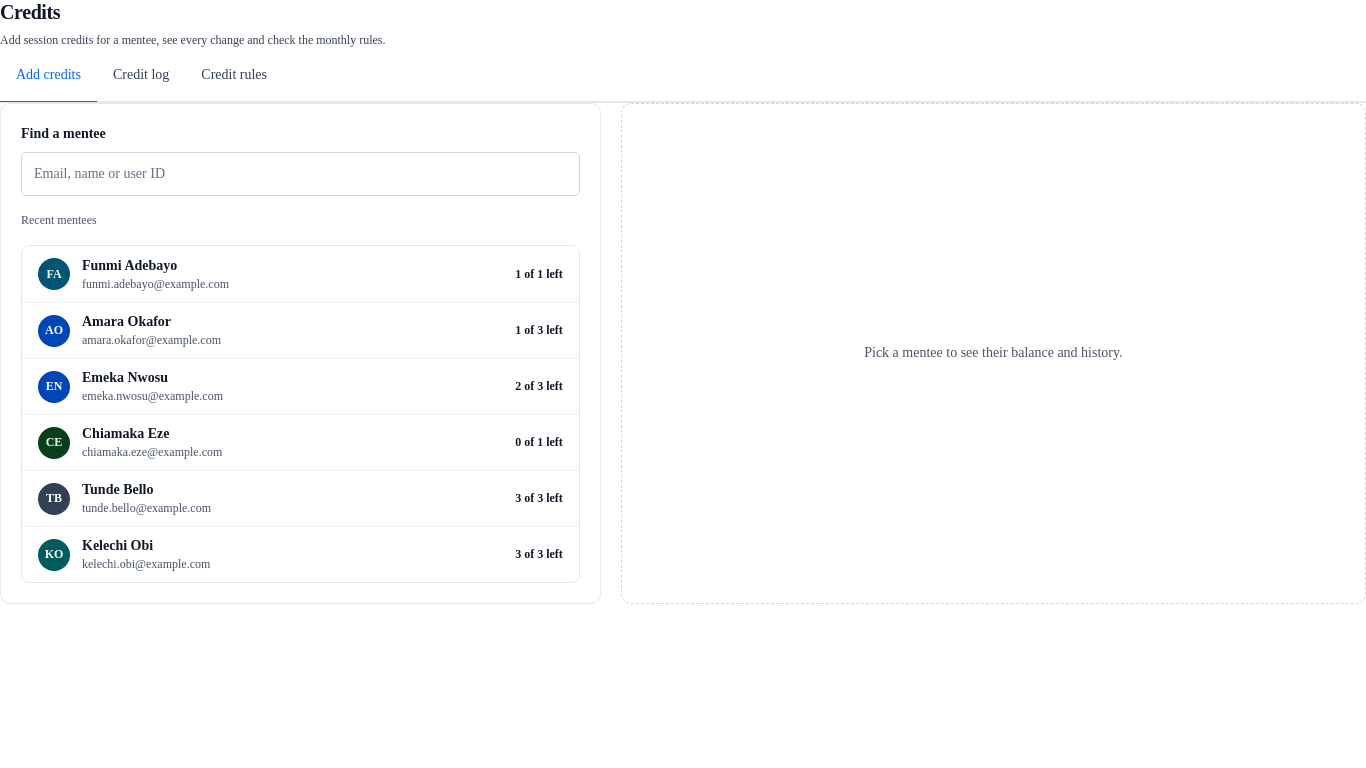
Test: AdminCreditsScreen › a failed add closes the confirm, changes nothing and says so
Type "amara" into the search field labelled "Find a mentee" at (300, 174), box top-left (21, 152), bottom-right (580, 196)
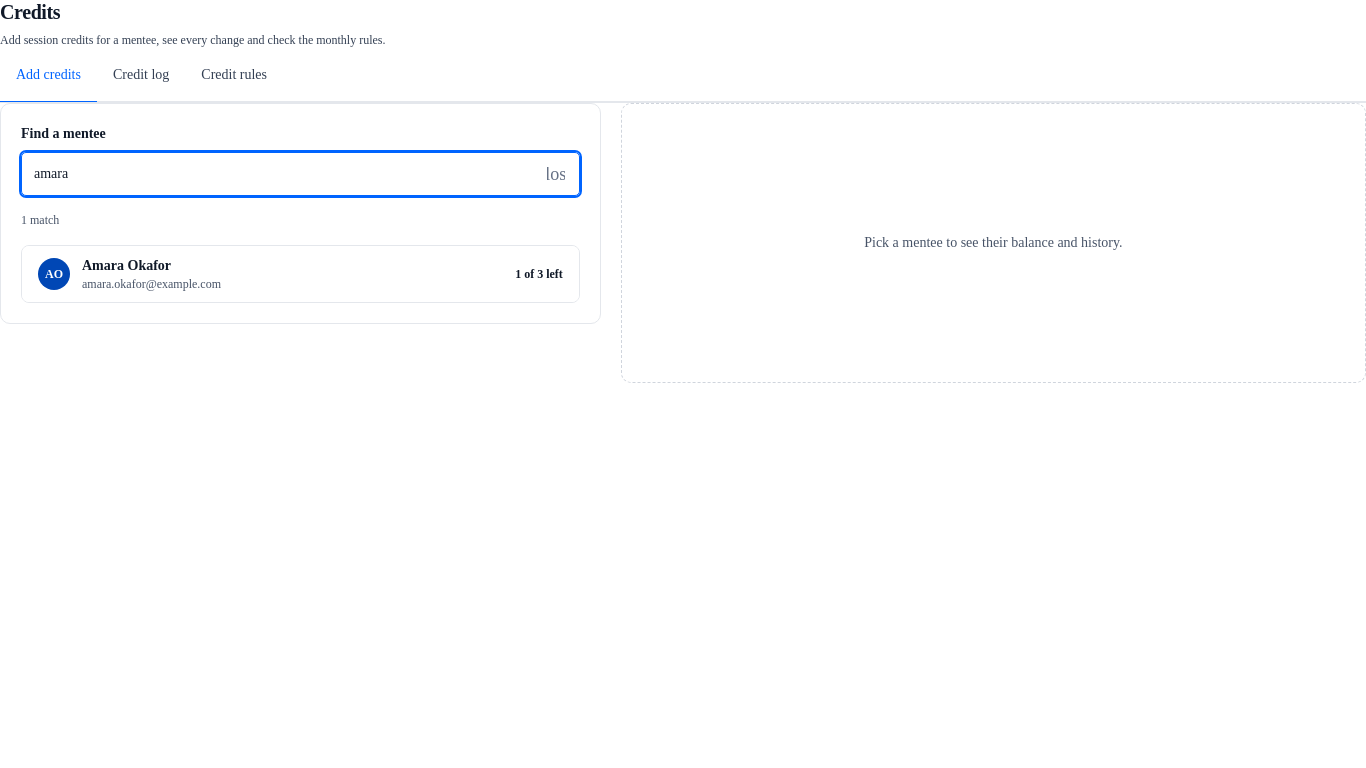
Expected: the text "1 match" is shown, top-left (21, 213), bottom-right (59, 227)
Click the button "AO Amara Okafor amara.okafor@example.com 1 of 3 left" at (54, 274), box top-left (22, 246), bottom-right (579, 302)
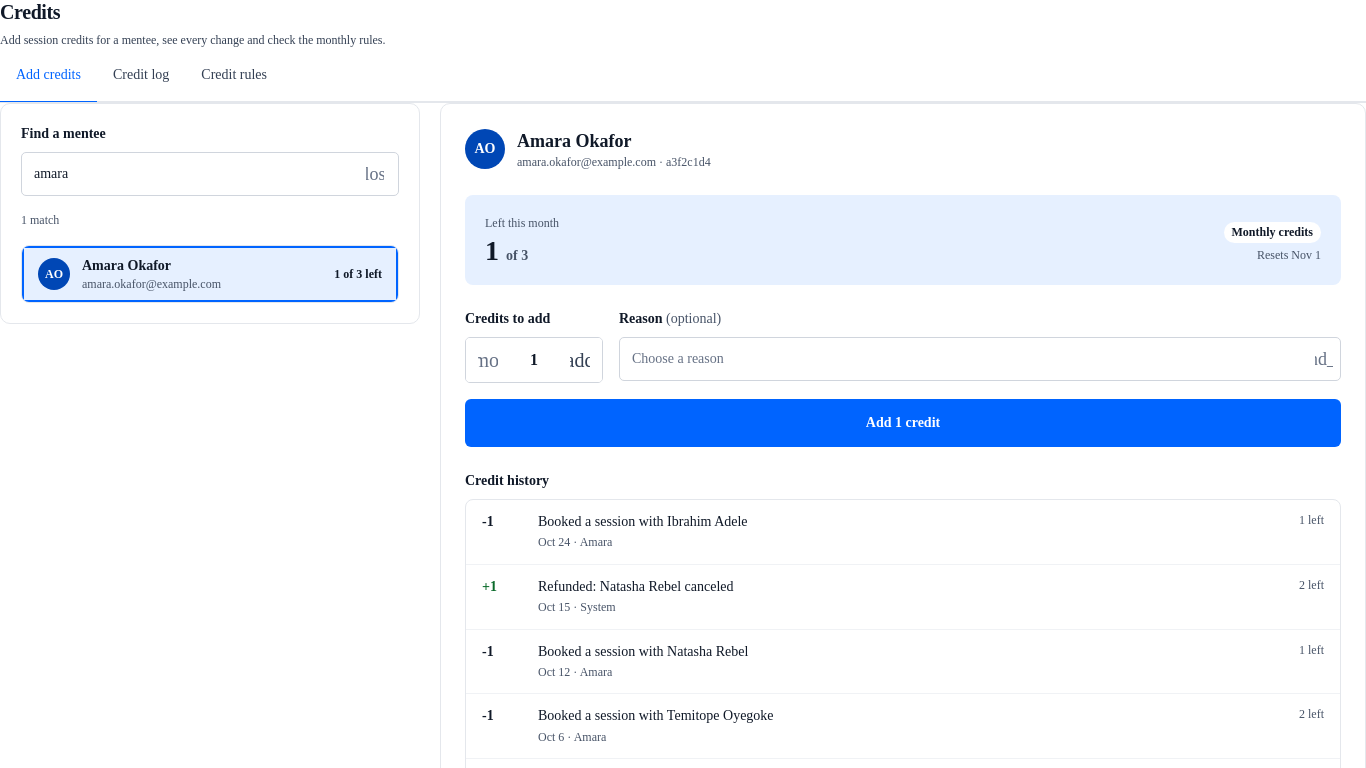
Expected: the text "of 3" is shown, top-left (506, 248), bottom-right (528, 263)
Click the button with aria-label "One more" at (580, 360), box top-left (558, 338), bottom-right (602, 382)
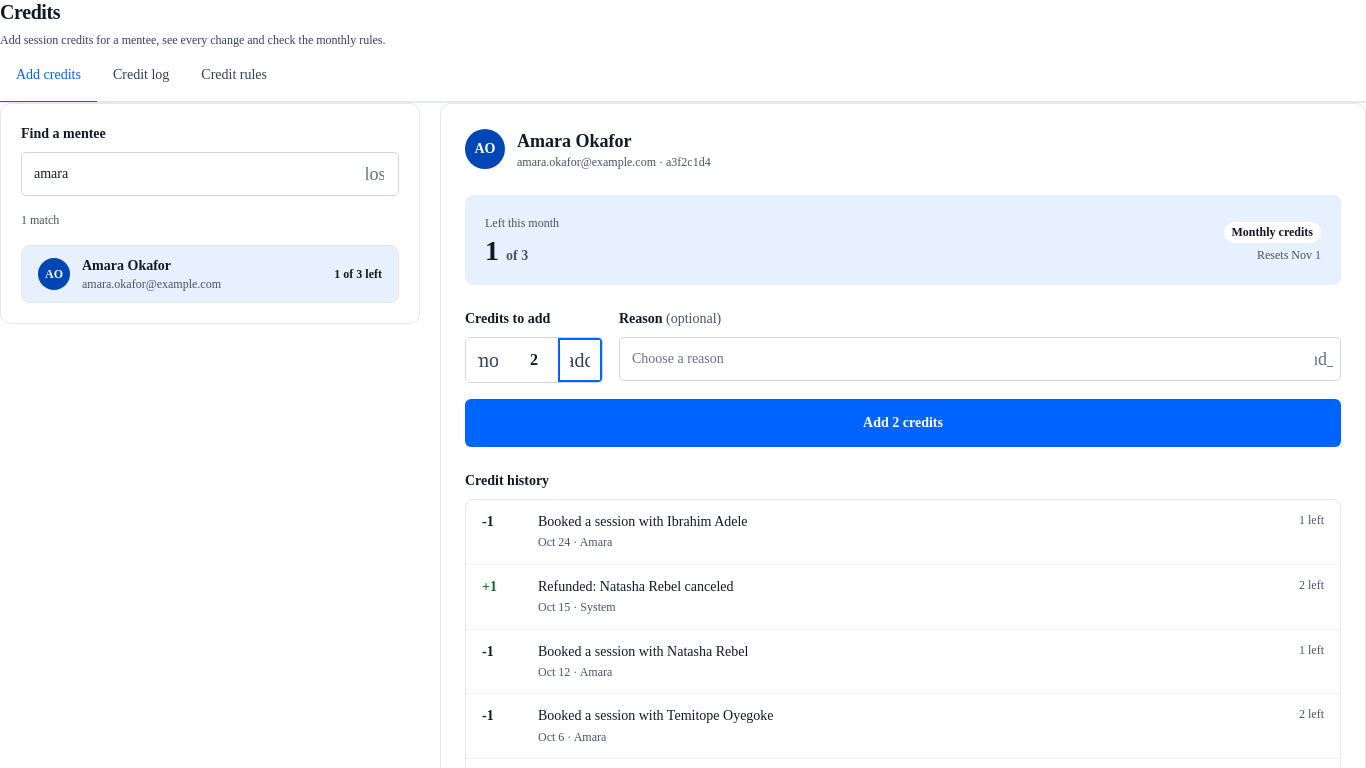
Click the button "Add 2 credits" at (903, 423), box top-left (465, 399), bottom-right (1341, 447)
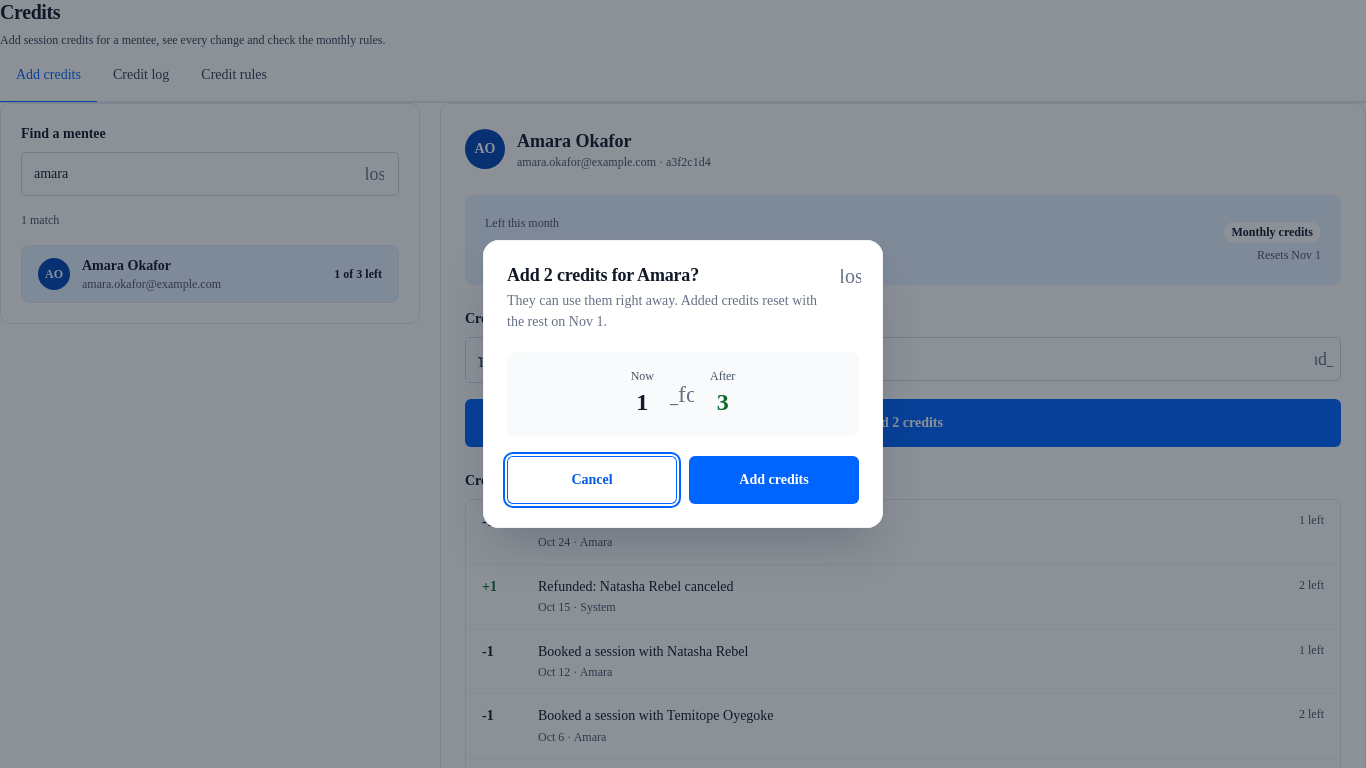
Click the button "Add credits" at (774, 480), box top-left (689, 456), bottom-right (859, 504)
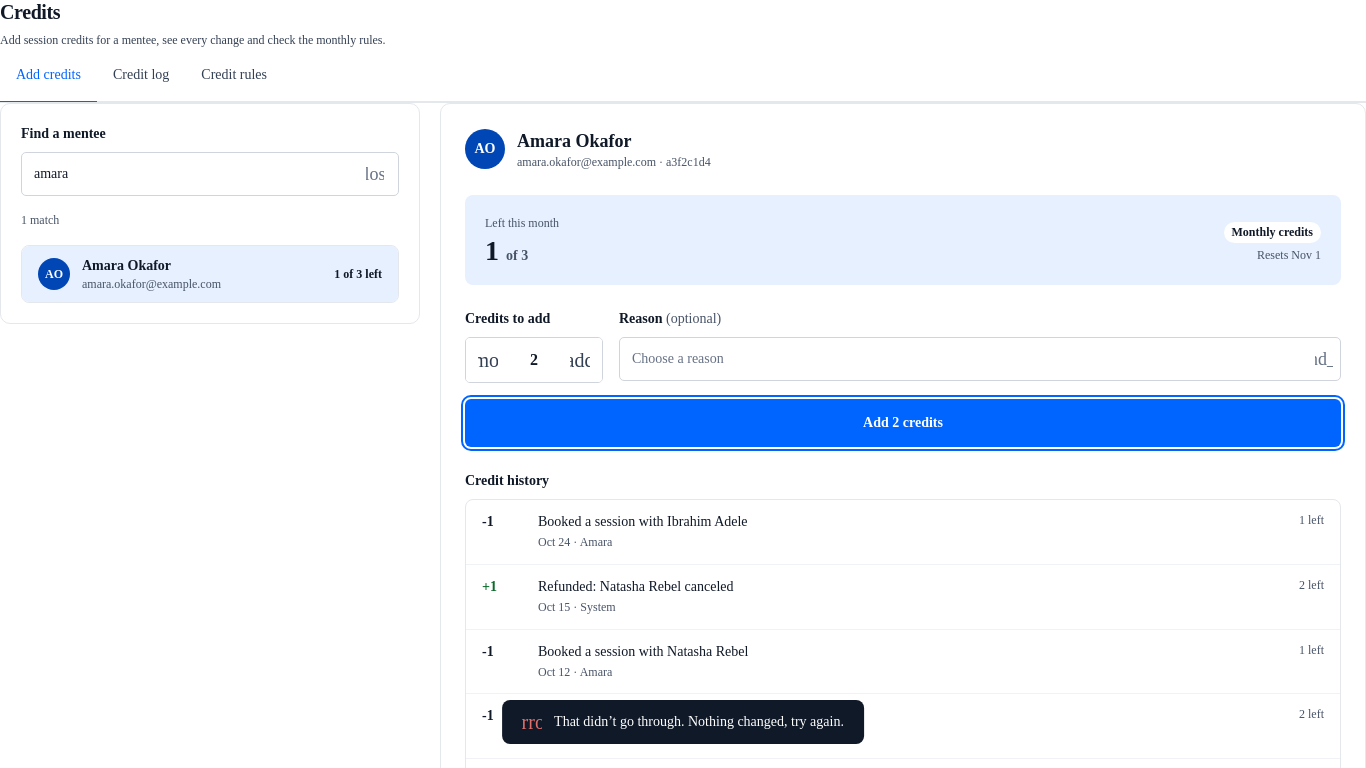
Expected: the button "Add 2 credits" is shown, top-left (465, 399), bottom-right (1341, 447)
Expected: the text "That didn’t go through. Nothing changed, try again." is shown, top-left (554, 714), bottom-right (844, 729)
Expected: the dialog is gone
